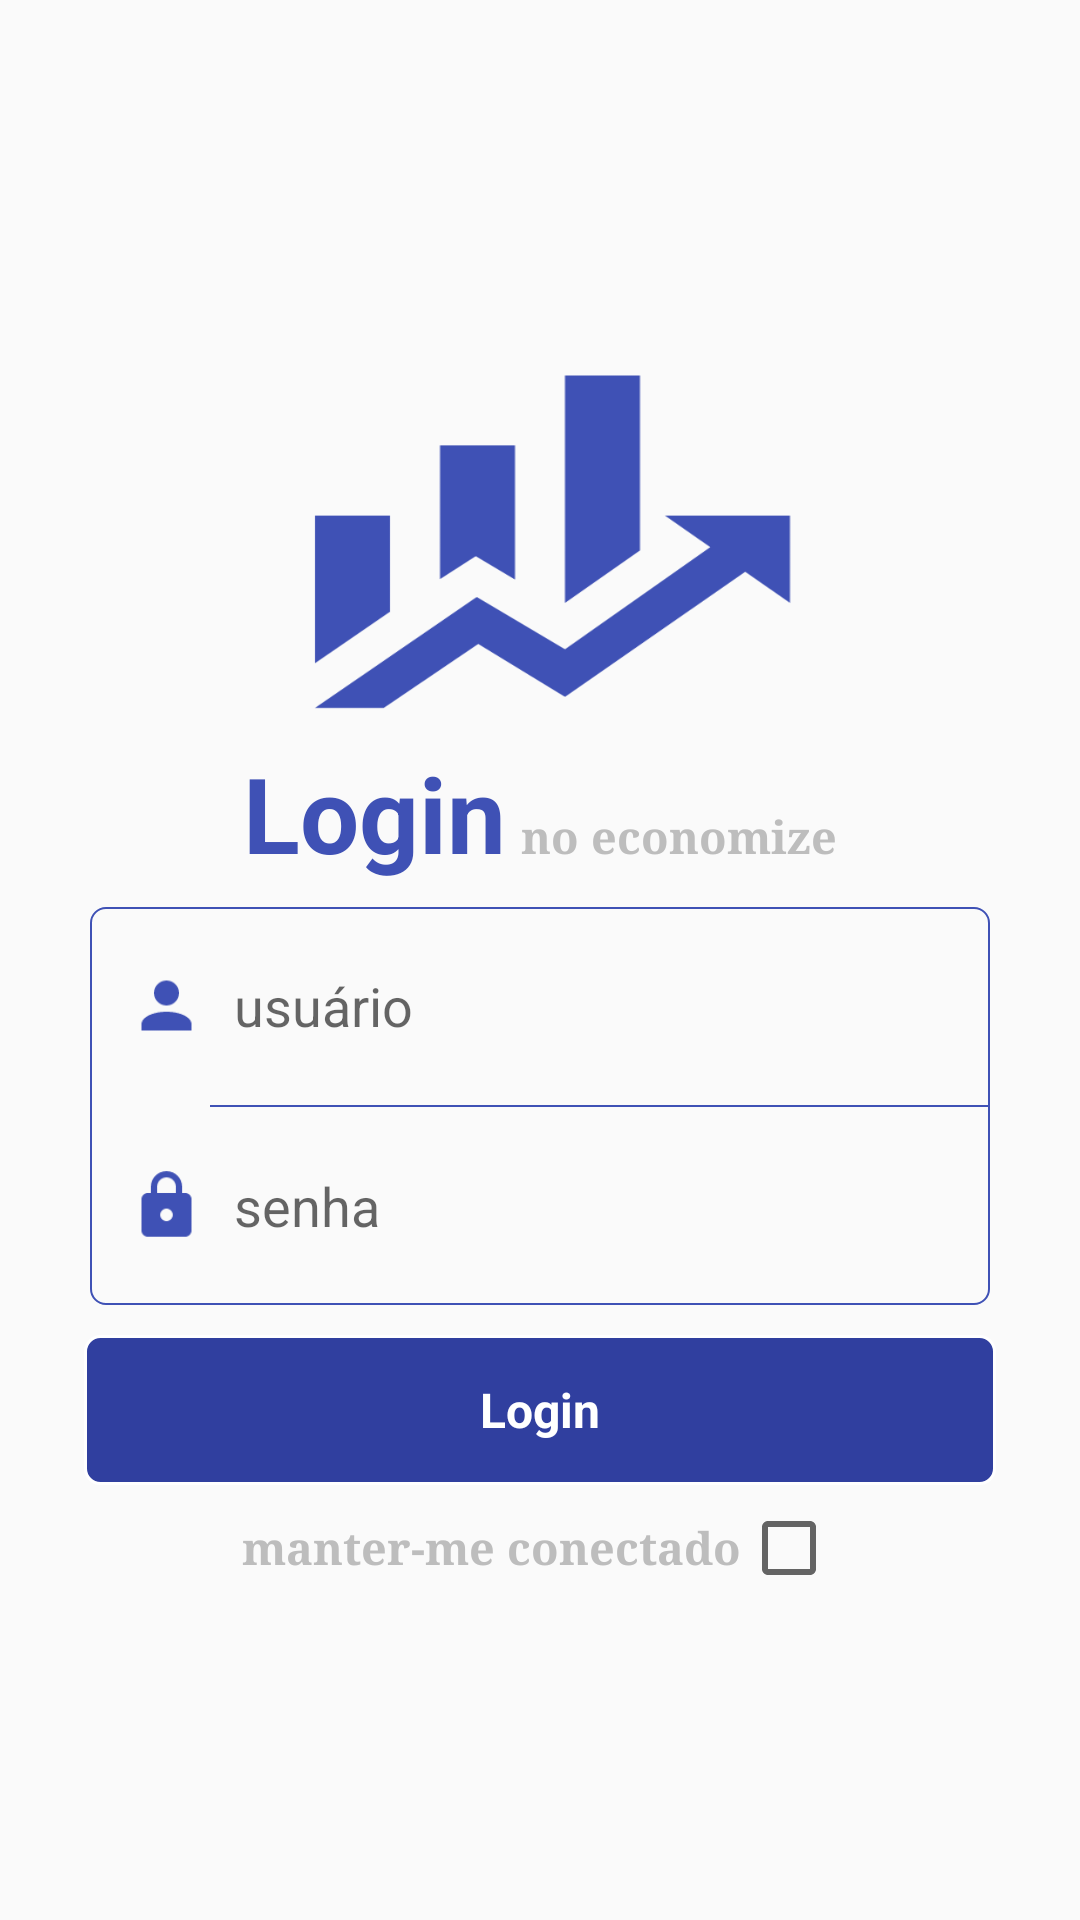

Icon click points for this 1080 x 1920 phone screenshot, format [x,y]:
account: [166,1005]
lock: [166,1204]
